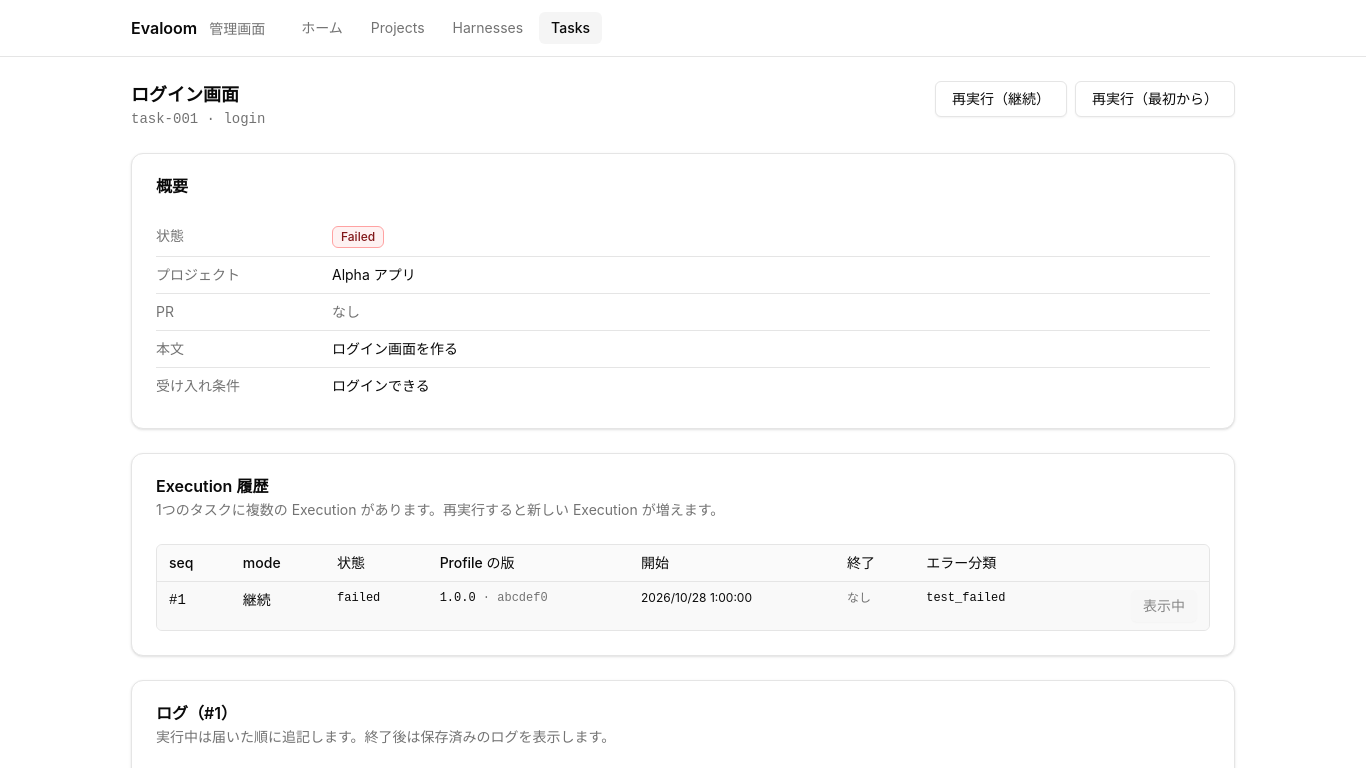
Test: タスク詳細 › 再実行（最初から）は確認ダイアログを出し、確定したときだけ送る
The image size is (1366, 768).
Click the button "再実行（最初から）" at (1155,99), box top-left (1075, 81), bottom-right (1235, 117)
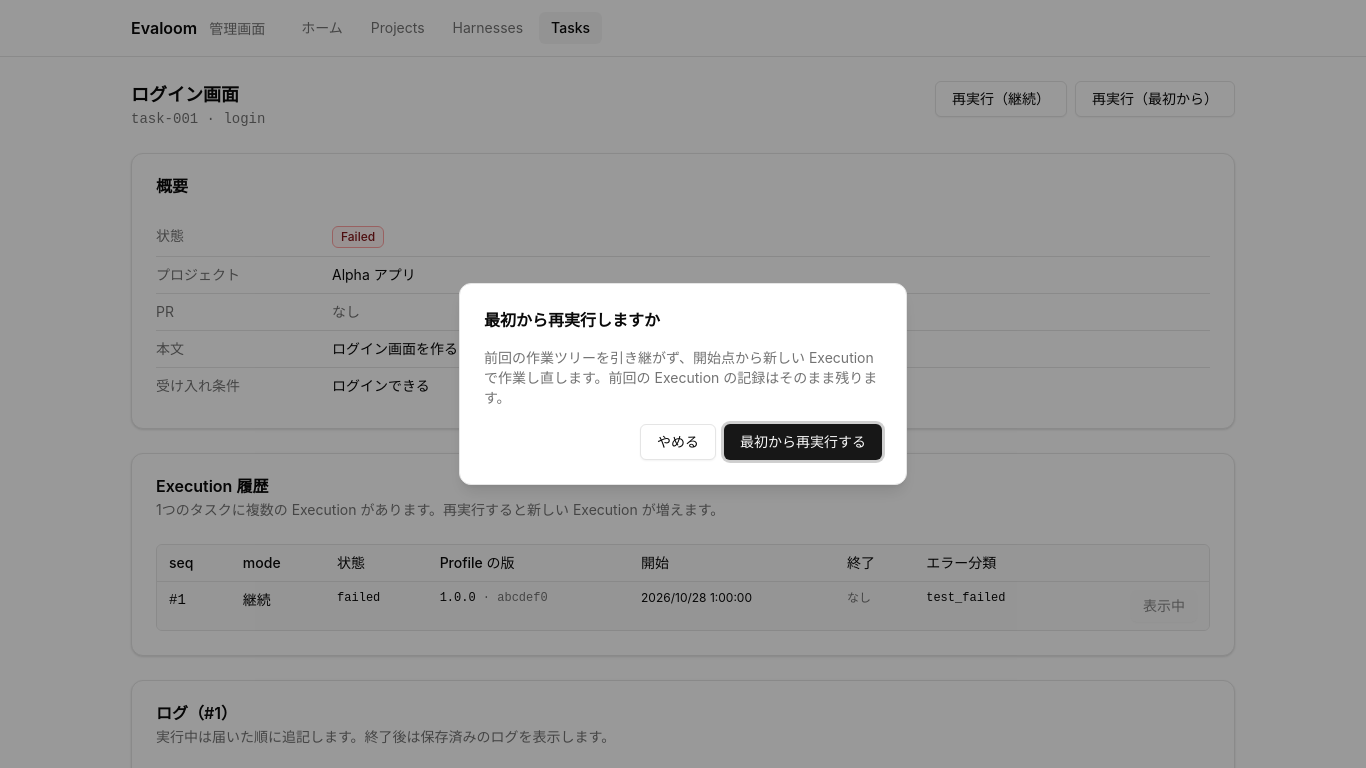
Click the button "やめる" at (678,442), box top-left (640, 424), bottom-right (716, 460)
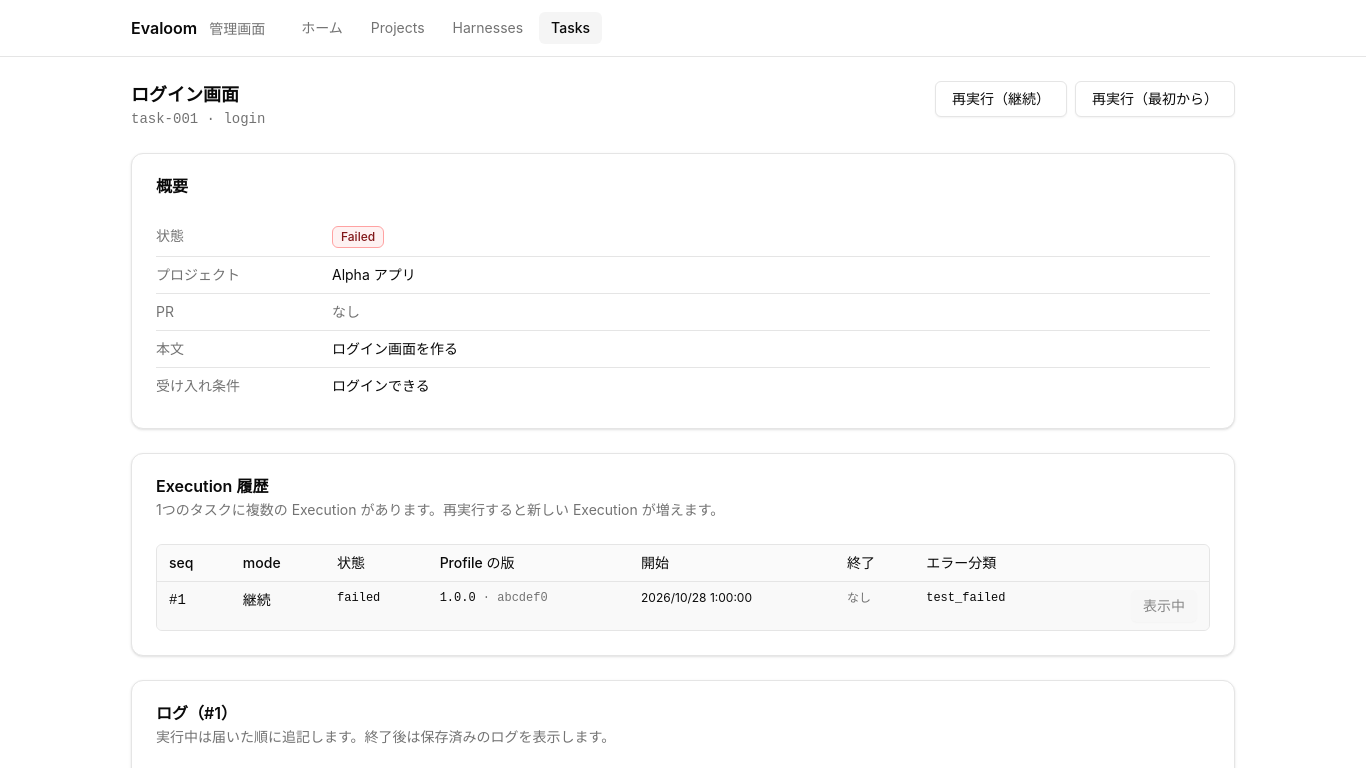
Check: the dialog is gone
Click the button "再実行（最初から）" at (1155,99), box top-left (1075, 81), bottom-right (1235, 117)
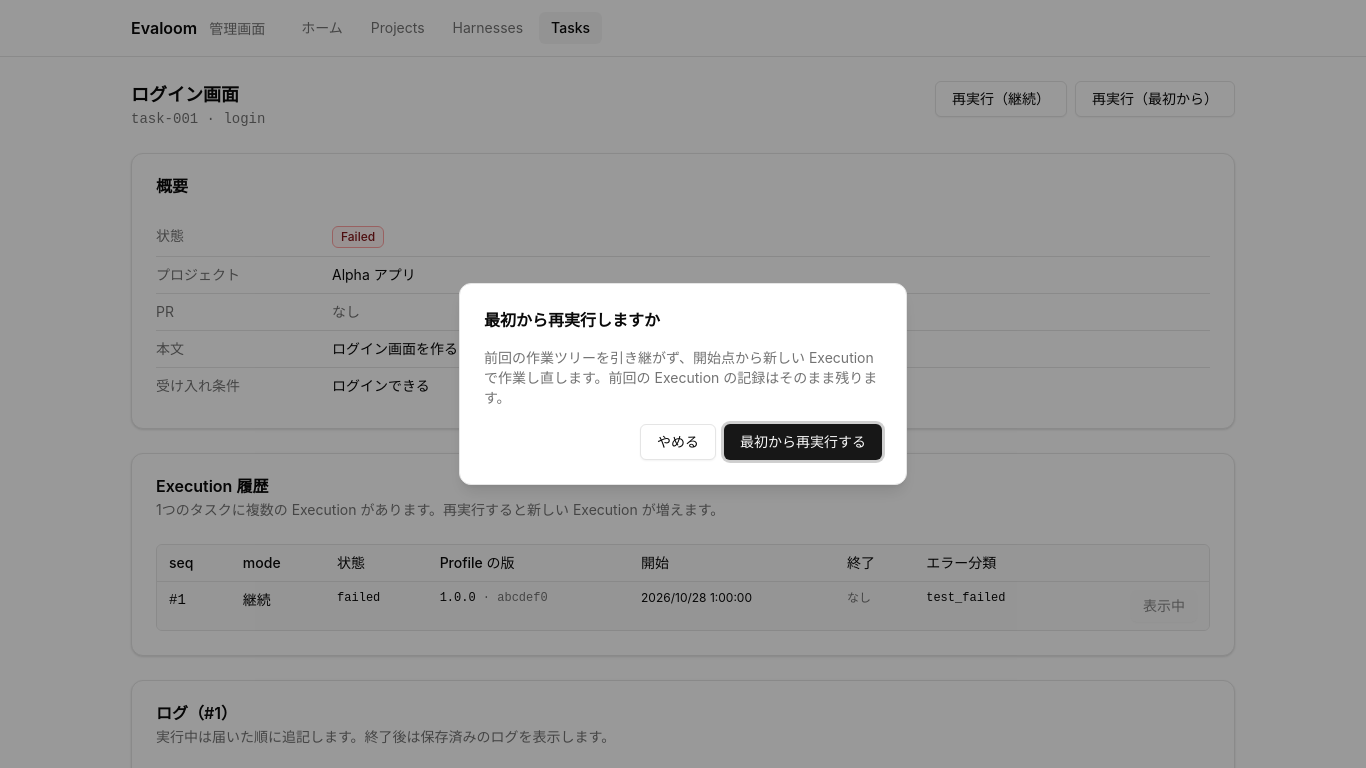
Click the button "最初から再実行する" at (803,442), box top-left (724, 424), bottom-right (882, 460)
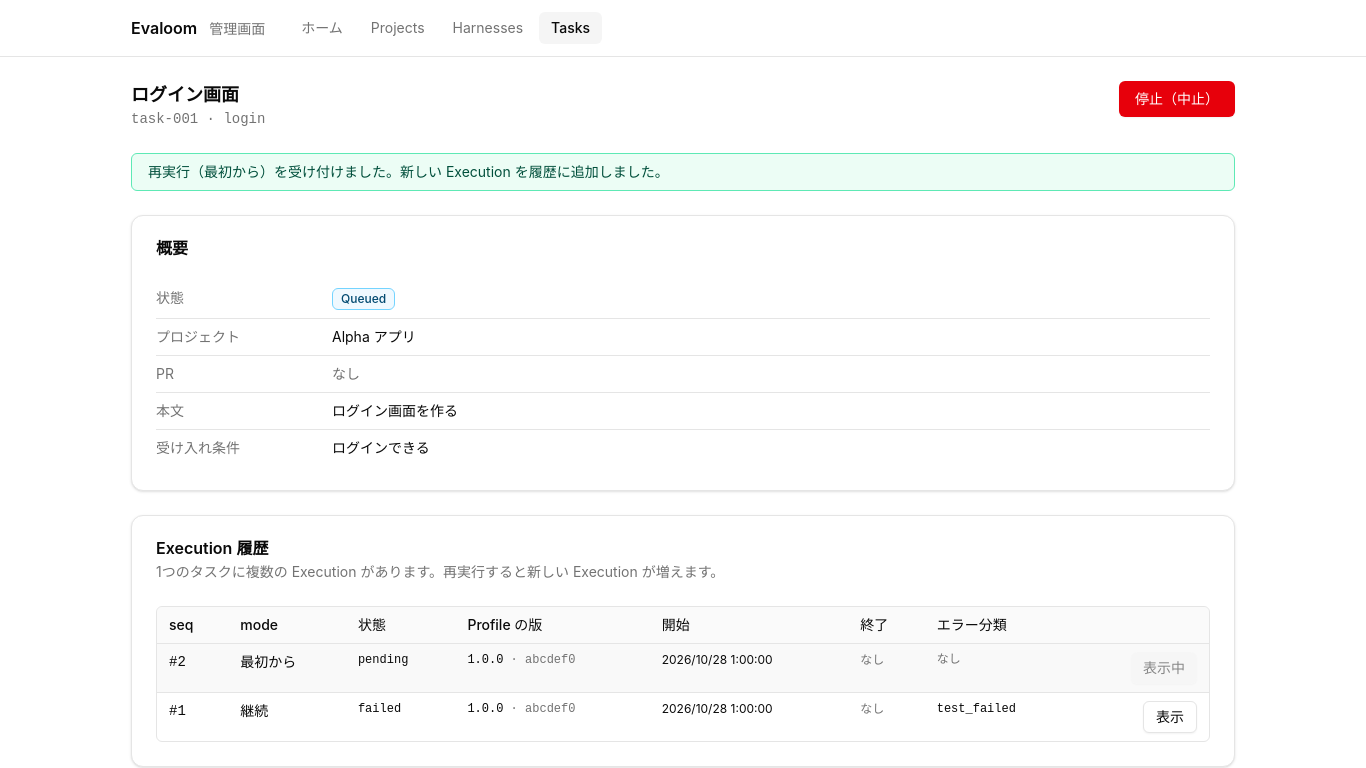
Check: the row "#2 最初から pending 1.0.0 · abcdef0 2026/10/28 1:00:00 なし なし 表示中" is shown, box top-left (157, 644), bottom-right (1209, 692)
